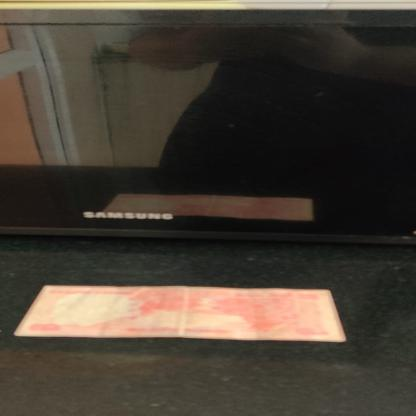Old20Back: (14, 285, 347, 343)
